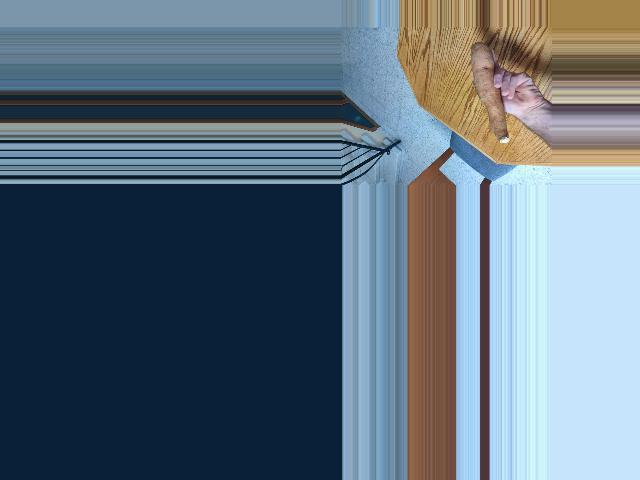sweet_potato: (464, 45, 509, 146)
